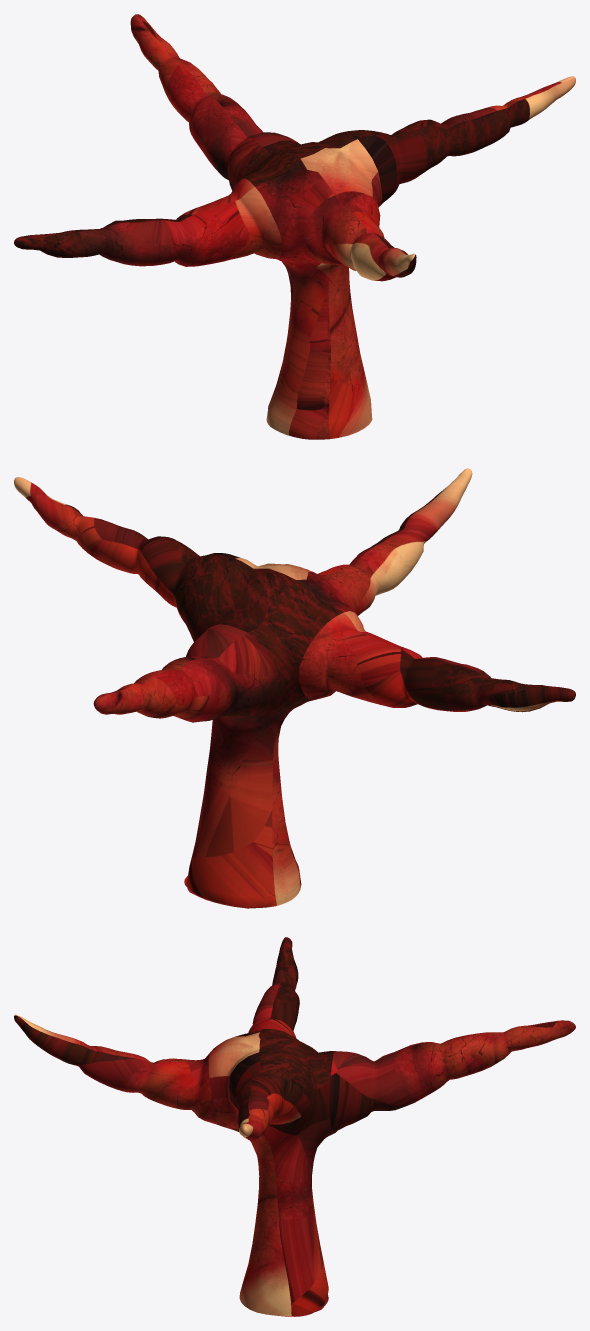
The model's file is FearAngry.fbx.
The picture shows the model from 3 angles, top to bottom: view 1: azimuth 30°, elevation 25°; view 2: azimuth 150°, elevation 25°; view 3: azimuth 270°, elevation 25°; orthographic projection. The views are drawn at different scales.
Visible parts, largest first — view 1: Fear_Mesh; view 2: Fear_Mesh; view 3: Fear_Mesh.
Boxes of the visible parts, <box> form: Fear_Mesh: <box>14,14,575,439</box>; Fear_Mesh: <box>14,468,575,908</box>; Fear_Mesh: <box>14,937,575,1316</box>.
Size of the model in its own units: 171 by 92.11 by 172.
